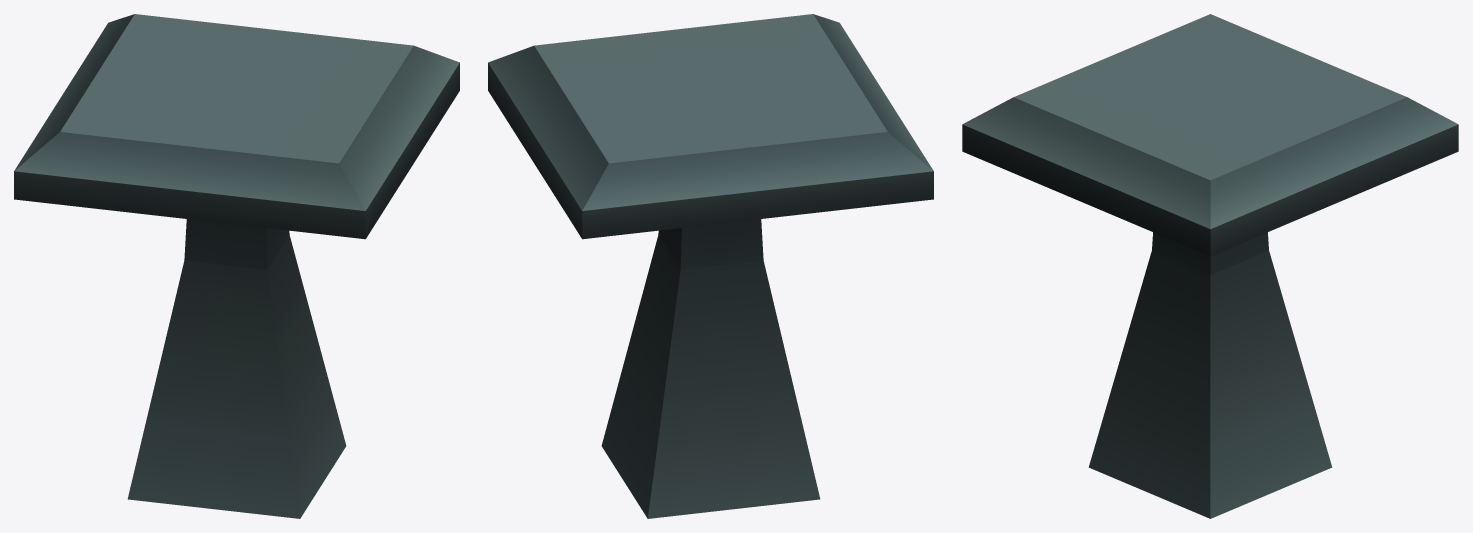
The model's file is Chair_1A.fbx.
The picture shows the model from 3 angles, left to right: view 1: azimuth 30°, elevation 25°; view 2: azimuth 150°, elevation 25°; view 3: azimuth 270°, elevation 25°; orthographic projection. The views are drawn at different scales.
Visible parts, largest first — view 1: Chair_1A; view 2: Chair_1A; view 3: Chair_1A.
Part boxes in pixels (x1,y1,x2,y2): Chair_1A: [14, 14, 459, 518]; Chair_1A: [488, 14, 933, 518]; Chair_1A: [962, 14, 1458, 518].
Bounding box in the file's own units: 103 × 85 × 103.
